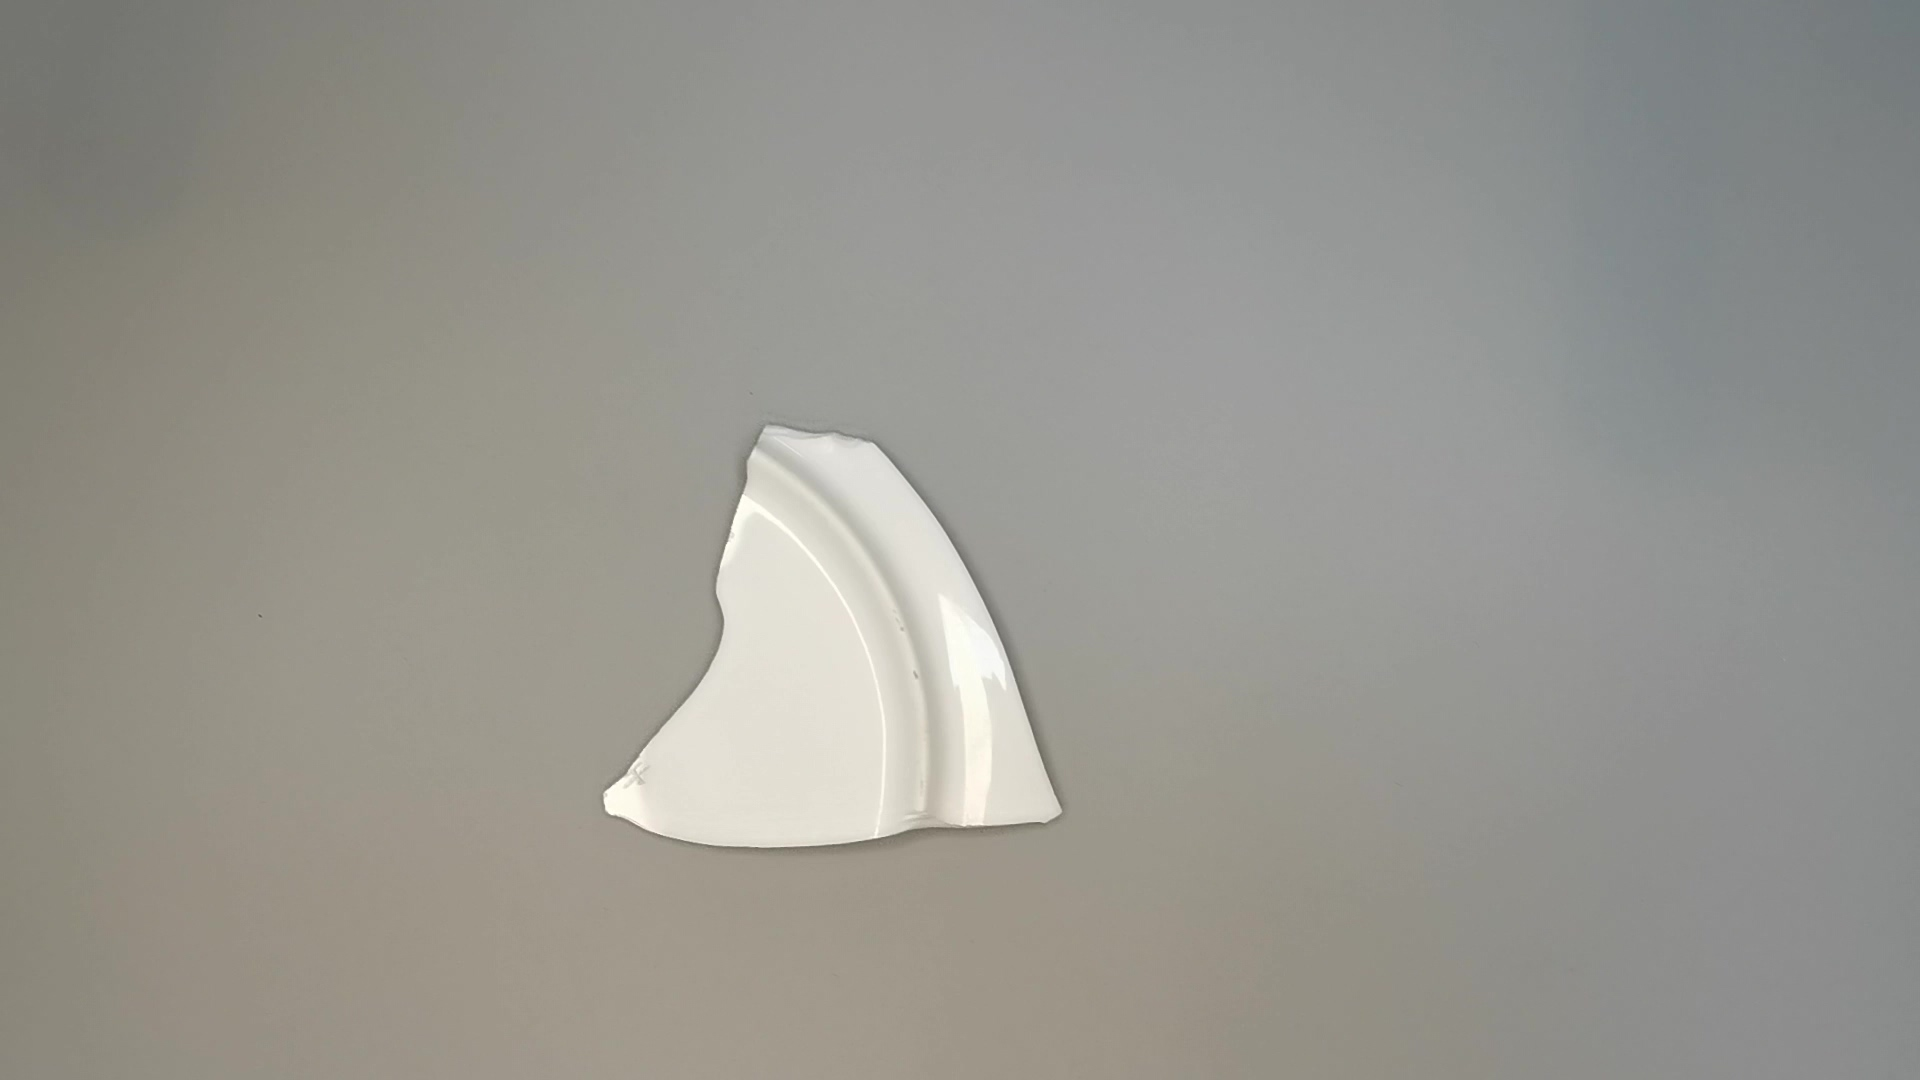ceramic: (582, 413, 1071, 862)
